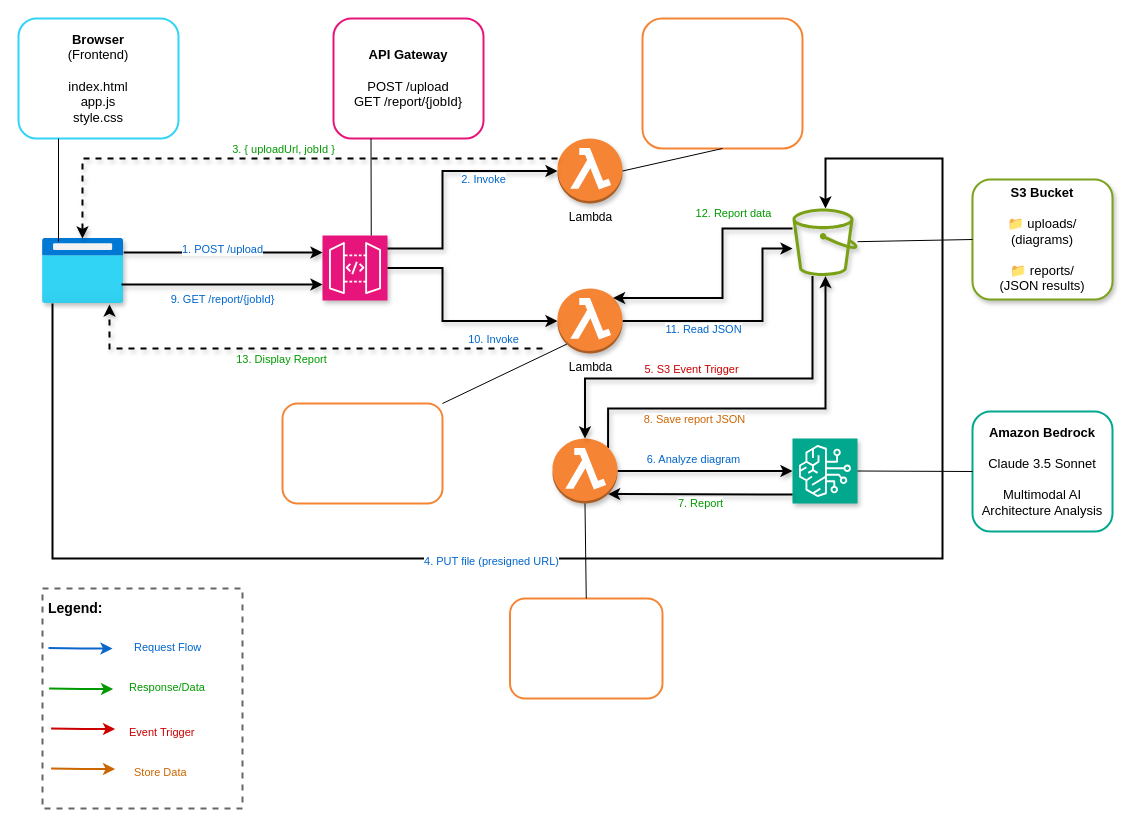
The diagram is 1136 pixels wide and 826 high, and some of its shapes have lost their labels. The centre of each missing label's shape, as x and y in pixels:
Lambda architecture-reviewer Bedrock analysis + save report: (x=585, y=648)
Lambda get-report Read report from S3: (x=362, y=453)
Lambda get-upload-url Generates presigned S3 URL + jobId: (x=722, y=83)
